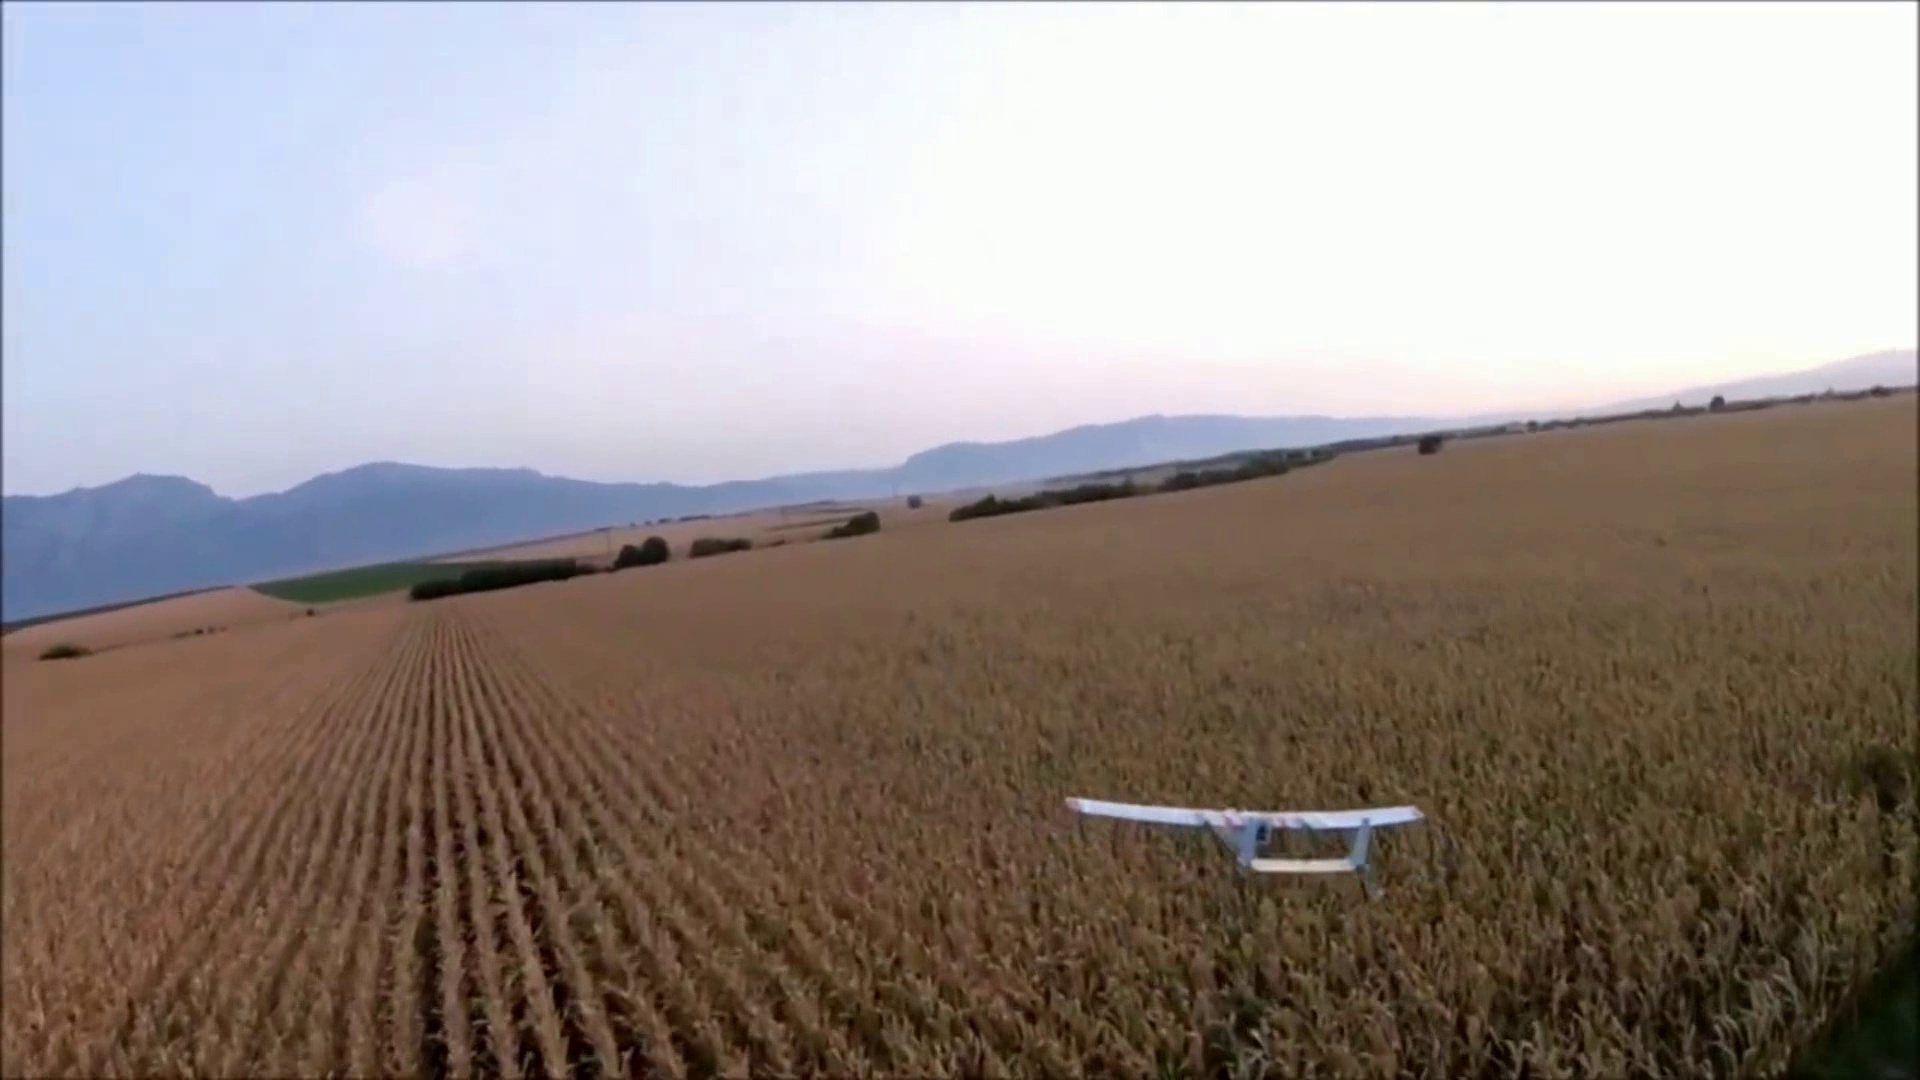airplane: (1060, 795, 1423, 884)
